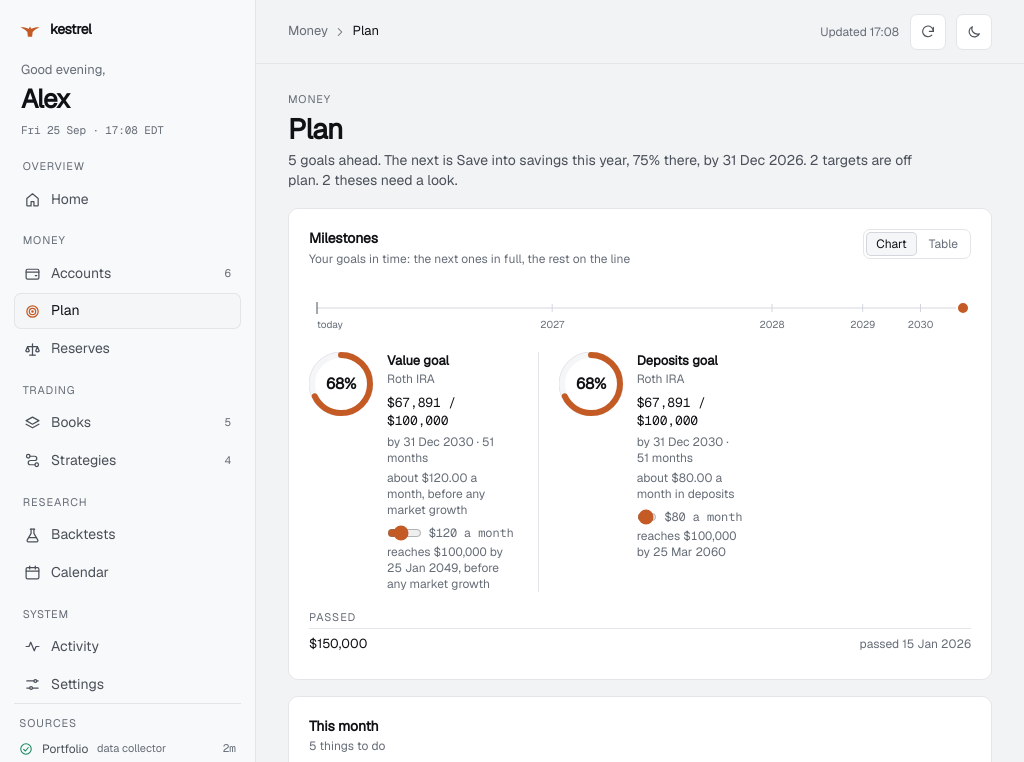
Test: Plan › Milestones: says the monthly amount for what it is, and a goal it cannot see shows — with why in the table
This screenshot has width=1024, height=762.
Check: the text "about $120.00 a month, before any market growth" is shown, box [387,470,485,518]
Check: the text "about $80.00 a month in deposits" is shown, box [637,470,742,502]
Click the button "Table": (943, 244) [919,232,968,256]
(page scrolled)
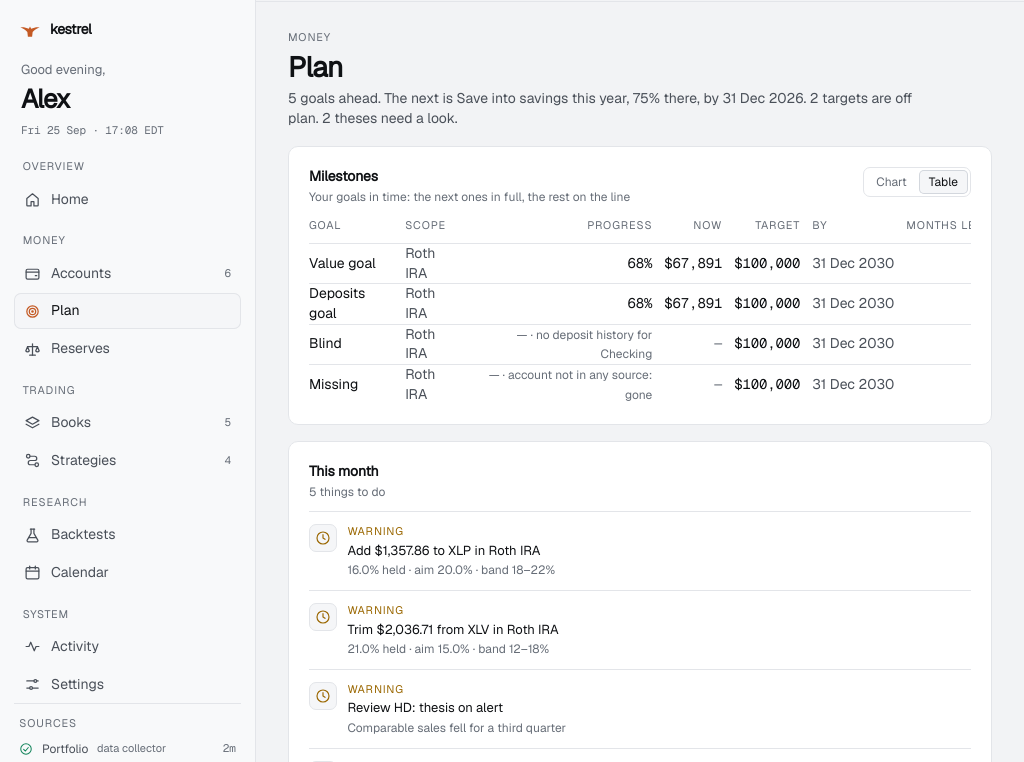
Check: the row that starts with "Blind" shows "no deposit history for Checking", box [536,327,652,362]
Check: the row that starts with "Missing" shows "account not in any source: gone", box [508,367,652,402]
